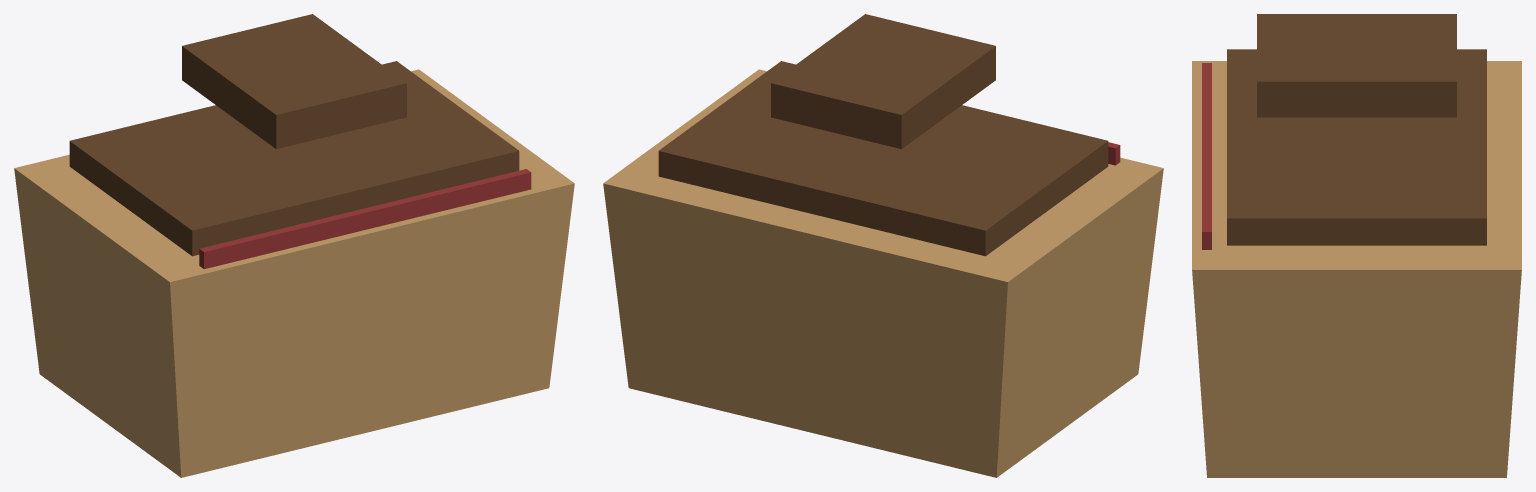
The model's file is GD_PicnicBasket_01.glb.
3 views of the same model, side by side, from view 1: azimuth 30°, elevation 25°; view 2: azimuth 150°, elevation 25°; view 3: azimuth 270°, elevation 25° (orthographic). The views are drawn at different scales.
Visible parts, largest first — view 1: GD_PicnicBasket_01; view 2: GD_PicnicBasket_01; view 3: GD_PicnicBasket_01.
Boxes of the visible parts, x1,y1,x2,y2 form: GD_PicnicBasket_01: (14, 14, 574, 477); GD_PicnicBasket_01: (603, 14, 1163, 477); GD_PicnicBasket_01: (1192, 14, 1521, 477).
Size of the model in its own units: 0.495 by 0.37 by 0.33.
Materials: 1 (1 with a texture image).
